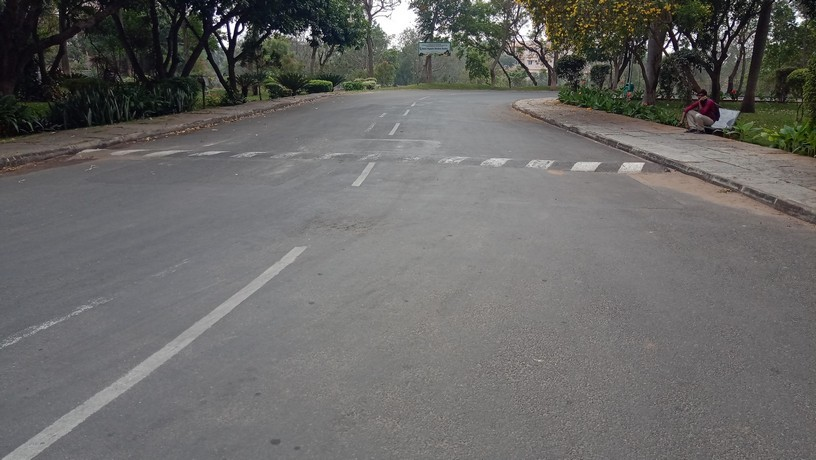bump: (66, 145, 670, 170)
